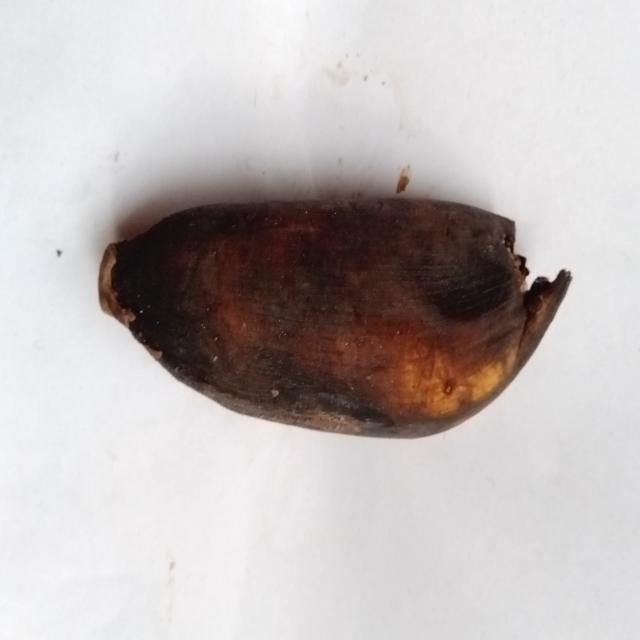banana: (108, 200, 570, 437)
